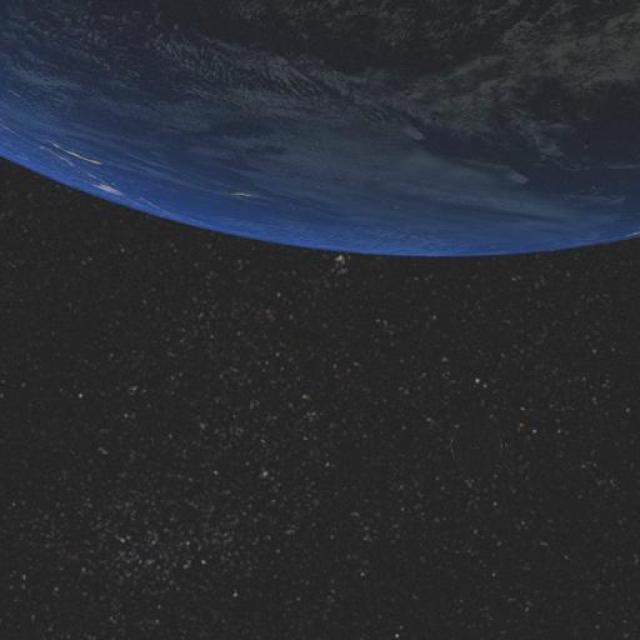debris: (437, 408, 520, 488)
